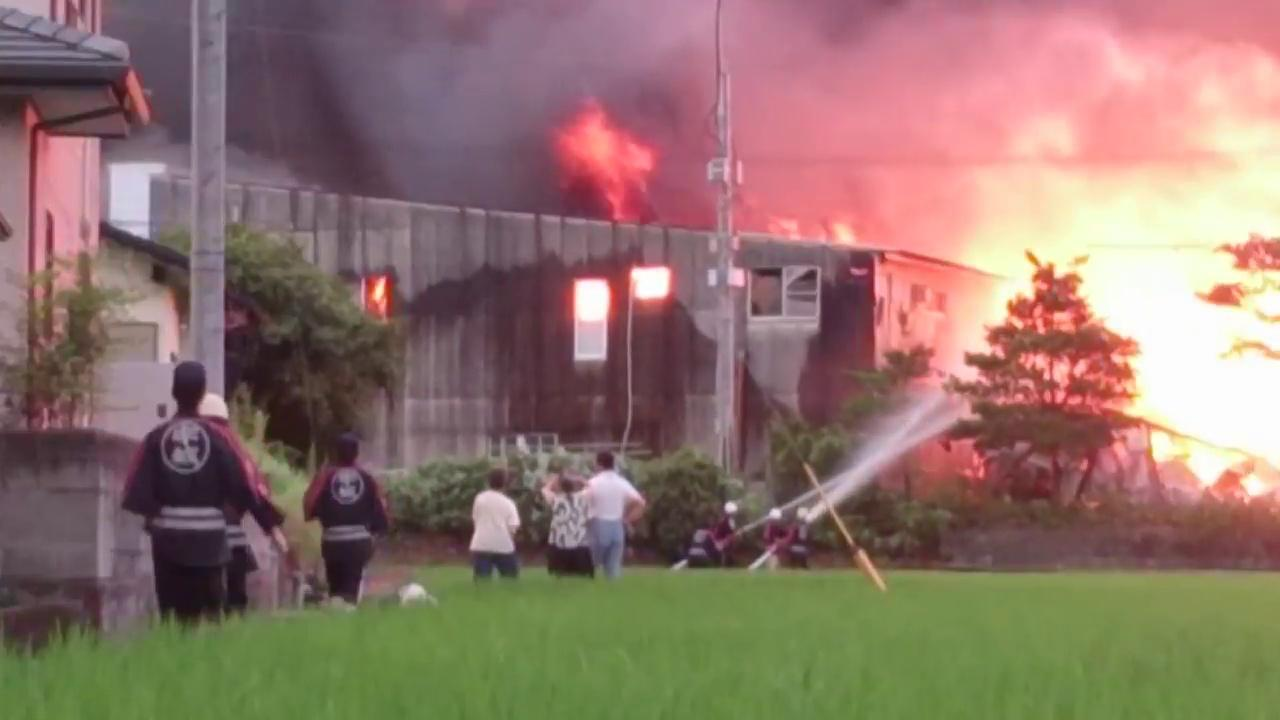fire: (1007, 137, 1279, 440), (565, 107, 648, 216)
smoke: (680, 14, 1152, 136), (392, 0, 555, 202)
